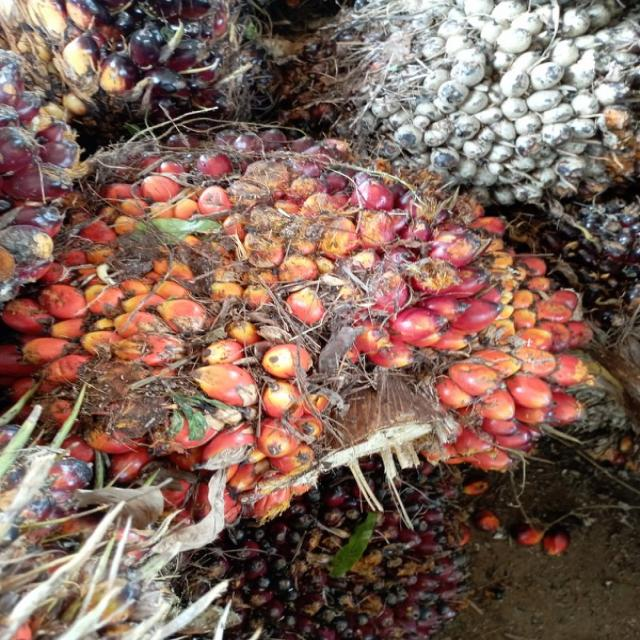fraksi 3: (0, 71, 640, 571)
